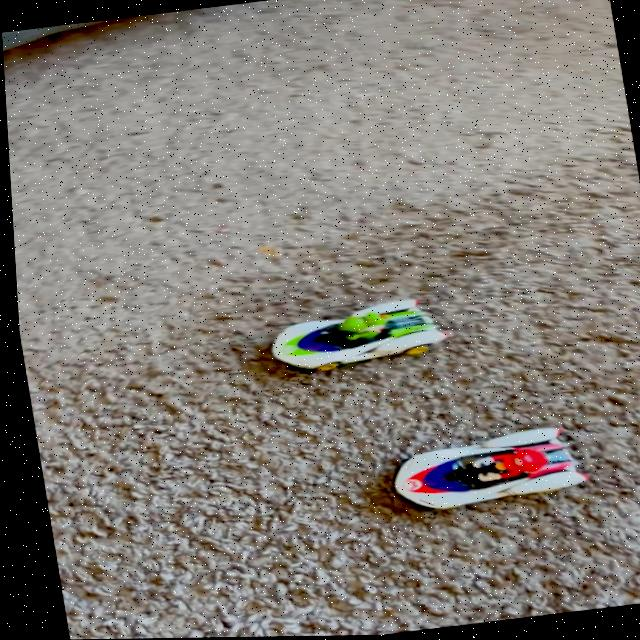mario: (367, 414, 598, 530)
yoshi: (254, 290, 454, 385)
